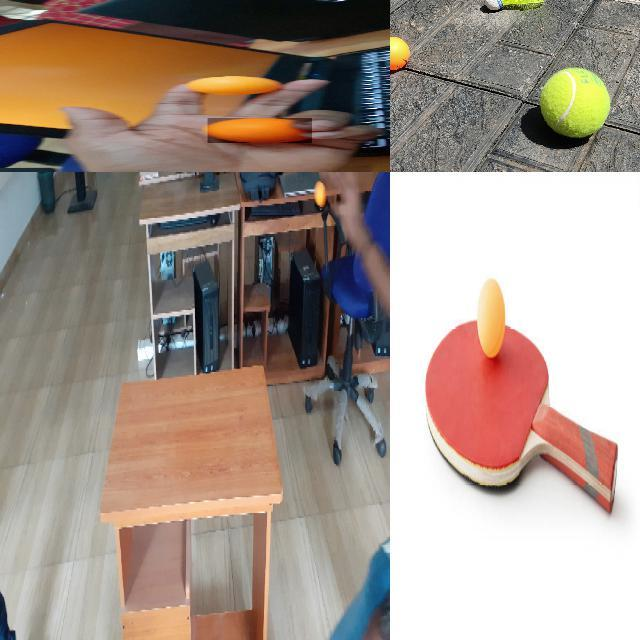ping-pong-ball: (208, 118, 314, 144), (477, 279, 505, 357), (184, 76, 280, 96), (390, 36, 410, 73), (314, 178, 326, 210)
